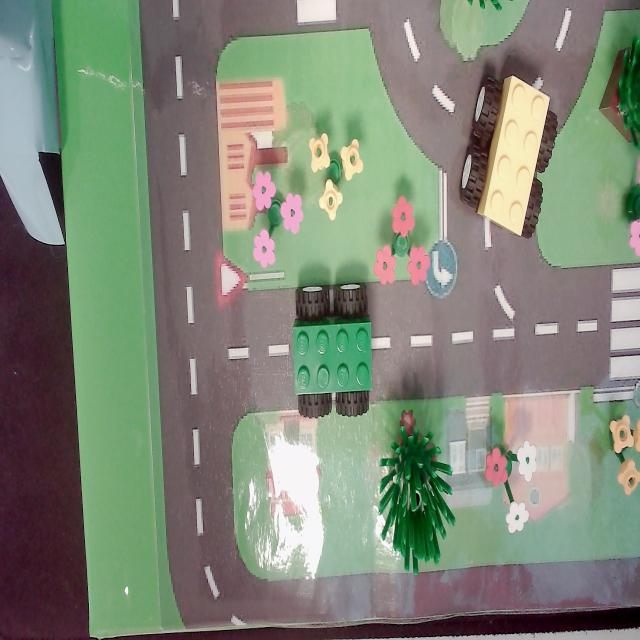Car: (456, 60, 562, 254), (289, 271, 375, 423)
Flower: (475, 430, 541, 538), (370, 186, 435, 294), (246, 168, 306, 272), (308, 126, 364, 222), (604, 404, 640, 498)
Tree: (374, 423, 454, 573), (594, 22, 640, 170)
